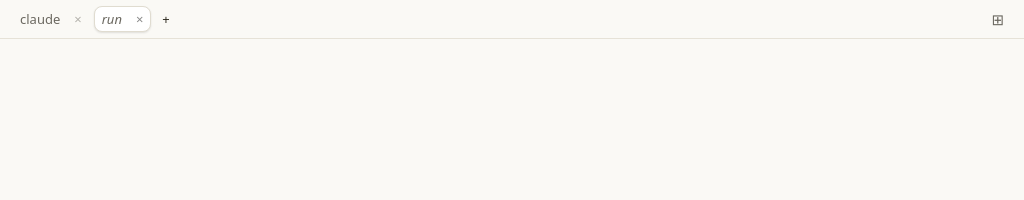
TabBar run tab › marks a stopped run tab, and offers Restart only
Right-click the tab "run".
right_click(112, 19)  # box [95,7,129,31]
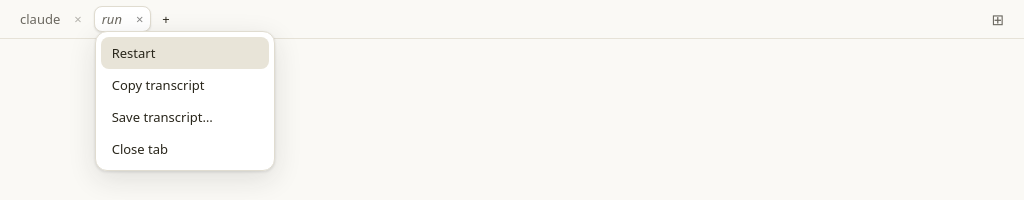
Now the menu item "Restart" is shown, box [101,37,269,69]
